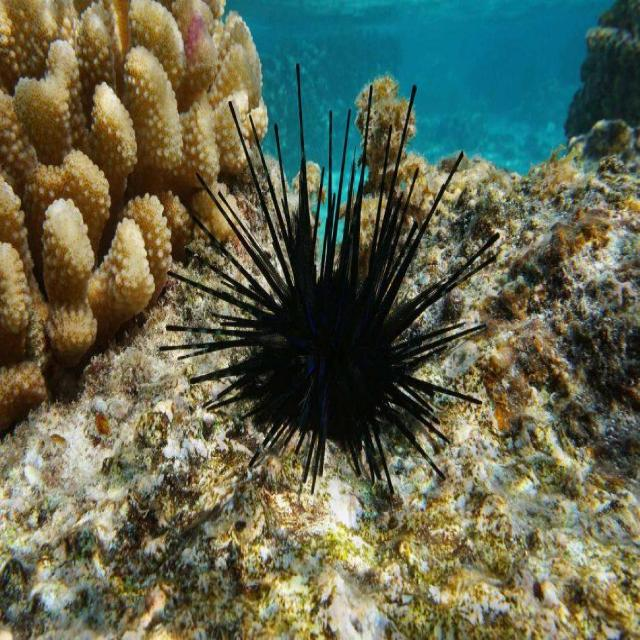Urchin: (158, 63, 500, 486)
